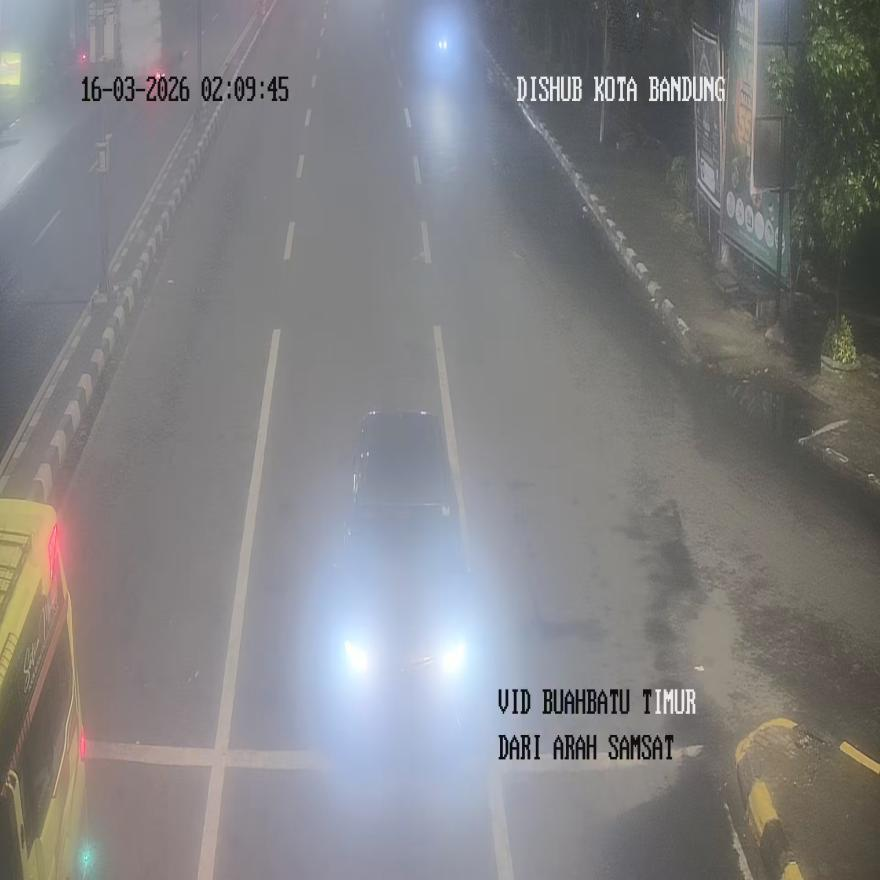Motor: (337, 409, 472, 704)
